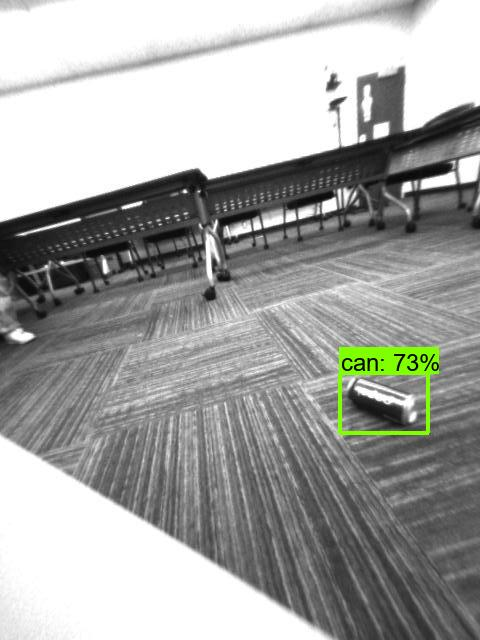can: (340, 370, 423, 435)
